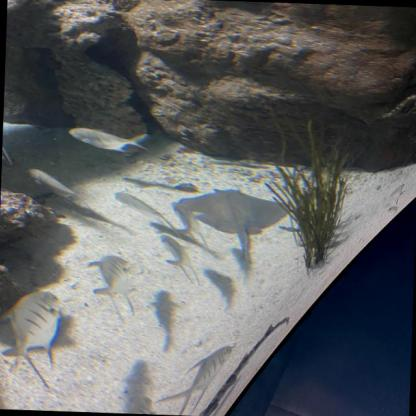fish: (0, 288, 66, 367), (82, 253, 144, 317), (110, 188, 186, 240), (26, 164, 98, 214), (66, 125, 154, 155), (168, 200, 212, 254), (158, 232, 202, 286), (1, 123, 12, 167)
stingray: (179, 186, 294, 238)
